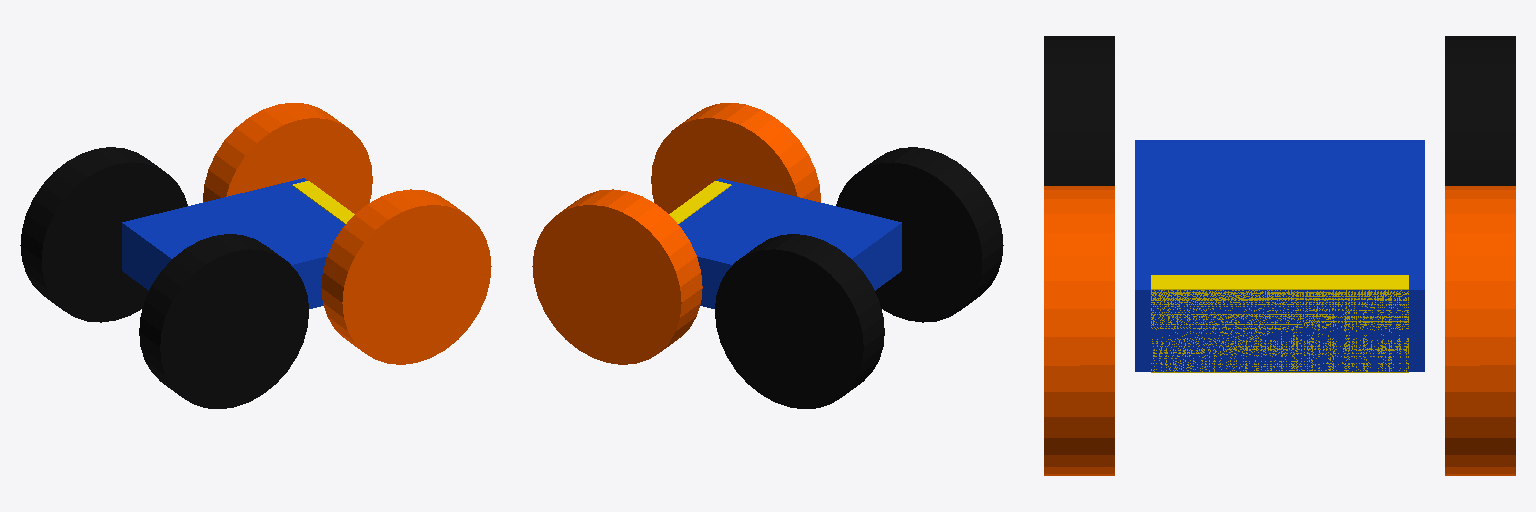
robot.urdf — flipper_car:
<?xml version="1.0"?>
<robot name="flipper_car">

  <!-- Base Link / Chassis -->
  <link name="base_link">
    <inertial>
      <mass value="0.6"/>
      <!-- CoM centered -->
      <origin xyz="0 0 0" rpy="0 0 0"/>
      <inertia ixx="0.0015" ixy="0" ixz="0" iyy="0.0025" iyz="0" izz="0.0025"/>
    </inertial>
    
    <!-- Main Body Box: Trimmed length (0.11m) so 0.045m radius wheels protrude on both ends -->
    <visual>
      <origin xyz="0 0 0" rpy="0 0 0"/>
      <geometry>
        <box size="0.11 0.09 0.028"/>
      </geometry>
      <material name="blue_mat"><color rgba="0.1 0.3 0.8 1.0"/></material>
    </visual>

    <!-- Visual Front Indicator (Yellow) -->
    <visual>
      <origin xyz="0.05 0 0" rpy="0 0 0"/>
      <geometry>
        <box size="0.01 0.08 0.029"/>
      </geometry>
      <material name="bright_yellow"><color rgba="1.0 0.9 0.0 1.0"/></material>
    </visual>

    <collision>
      <origin xyz="0 0 0" rpy="0 0 0"/>
      <geometry>
        <box size="0.11 0.09 0.028"/>
      </geometry>
    </collision>
  </link>

  <!-- 1. Front Left Wheel -->
  <link name="front_left_wheel">
    <inertial>
      <mass value="0.06"/>
      <origin xyz="0 0 0" rpy="1.5708 0 0"/>
      <inertia ixx="0.0001" ixy="0" ixz="0" iyy="0.0001" iyz="0" izz="0.0001"/>
    </inertial>
    <visual>
      <origin xyz="0 0 0" rpy="1.5708 0 0"/>
      <geometry><cylinder radius="0.045" length="0.022"/></geometry>
      <material name="orange_mat"><color rgba="1.0 0.4 0.0 1.0"/></material>
    </visual>
    <collision>
      <origin xyz="0 0 0" rpy="1.5708 0 0"/>
      <geometry><cylinder radius="0.045" length="0.022"/></geometry>
    </collision>
  </link>
  <joint name="front_left_joint" type="continuous">
    <parent link="base_link"/>
    <child link="front_left_wheel"/>
    <origin xyz="0.055 0.062 0" rpy="0 0 0"/>
    <axis xyz="0 1 0"/>
  </joint>

  <!-- 2. Rear Left Wheel -->
  <link name="rear_left_wheel">
    <inertial>
      <mass value="0.06"/>
      <origin xyz="0 0 0" rpy="1.5708 0 0"/>
      <inertia ixx="0.0001" ixy="0" ixz="0" iyy="0.0001" iyz="0" izz="0.0001"/>
    </inertial>
    <visual>
      <origin xyz="0 0 0" rpy="1.5708 0 0"/>
      <geometry><cylinder radius="0.045" length="0.022"/></geometry>
      <material name="black_mat"><color rgba="0.1 0.1 0.1 1.0"/></material>
    </visual>
    <collision>
      <origin xyz="0 0 0" rpy="1.5708 0 0"/>
      <geometry><cylinder radius="0.045" length="0.022"/></geometry>
    </collision>
  </link>
  <joint name="rear_left_joint" type="continuous">
    <parent link="base_link"/>
    <child link="rear_left_wheel"/>
    <origin xyz="-0.055 0.062 0" rpy="0 0 0"/>
    <axis xyz="0 1 0"/>
  </joint>

  <!-- 3. Front Right Wheel -->
  <link name="front_right_wheel">
    <inertial>
      <mass value="0.06"/>
      <origin xyz="0 0 0" rpy="1.5708 0 0"/>
      <inertia ixx="0.0001" ixy="0" ixz="0" iyy="0.0001" iyz="0" izz="0.0001"/>
    </inertial>
    <visual>
      <origin xyz="0 0 0" rpy="1.5708 0 0"/>
      <geometry><cylinder radius="0.045" length="0.022"/></geometry>
      <material name="orange_mat"><color rgba="1.0 0.4 0.0 1.0"/></material>
    </visual>
    <collision>
      <origin xyz="0 0 0" rpy="1.5708 0 0"/>
      <geometry><cylinder radius="0.045" length="0.022"/></geometry>
    </collision>
  </link>
  <joint name="front_right_joint" type="continuous">
    <parent link="base_link"/>
    <child link="front_right_wheel"/>
    <origin xyz="0.055 -0.062 0" rpy="0 0 0"/>
    <axis xyz="0 1 0"/>
  </joint>

  <!-- 4. Rear Right Wheel -->
  <link name="rear_right_wheel">
    <inertial>
      <mass value="0.06"/>
      <origin xyz="0 0 0" rpy="1.5708 0 0"/>
      <inertia ixx="0.0001" ixy="0" ixz="0" iyy="0.0001" iyz="0" izz="0.0001"/>
    </inertial>
    <visual>
      <origin xyz="0 0 0" rpy="1.5708 0 0"/>
      <geometry><cylinder radius="0.045" length="0.022"/></geometry>
      <material name="black_mat"><color rgba="0.1 0.1 0.1 1.0"/></material>
    </visual>
    <collision>
      <origin xyz="0 0 0" rpy="1.5708 0 0"/>
      <geometry><cylinder radius="0.045" length="0.022"/></geometry>
    </collision>
  </link>
  <joint name="rear_right_joint" type="continuous">
    <parent link="base_link"/>
    <child link="rear_right_wheel"/>
    <origin xyz="-0.055 -0.062 0" rpy="0 0 0"/>
    <axis xyz="0 1 0"/>
  </joint>

  <!-- Gazebo Material Colors -->
  <gazebo reference="base_link">
    <material>
      <ambient>0.1 0.3 0.8 1.0</ambient>
      <diffuse>0.1 0.3 0.8 1.0</diffuse>
    </material>
  </gazebo>
  <gazebo reference="front_left_wheel">
    <material><ambient>1.0 0.4 0.0 1.0</ambient><diffuse>1.0 0.4 0.0 1.0</diffuse></material>
  </gazebo>
  <gazebo reference="front_right_wheel">
    <material><ambient>1.0 0.4 0.0 1.0</ambient><diffuse>1.0 0.4 0.0 1.0</diffuse></material>
  </gazebo>
  <gazebo reference="rear_left_wheel">
    <material><ambient>0.1 0.1 0.1 1.0</ambient><diffuse>0.1 0.1 0.1 1.0</diffuse></material>
  </gazebo>
  <gazebo reference="rear_right_wheel">
    <material><ambient>0.1 0.1 0.1 1.0</ambient><diffuse>0.1 0.1 0.1 1.0</diffuse></material>
  </gazebo>

  <!-- High Grip Friction on Rubber Tires -->
  <gazebo reference="front_left_wheel"><mu1>2.0</mu1><mu2>2.0</mu2></gazebo>
  <gazebo reference="rear_left_wheel"><mu1>2.0</mu1><mu2>2.0</mu2></gazebo>
  <gazebo reference="front_right_wheel"><mu1>2.0</mu1><mu2>2.0</mu2></gazebo>
  <gazebo reference="rear_right_wheel"><mu1>2.0</mu1><mu2>2.0</mu2></gazebo>

  <!-- Diff Drive Plugin -->
  <gazebo>
    <plugin filename="gz-sim-diff-drive-system" name="gz::sim::systems::DiffDrive">
      <left_joint>front_left_joint</left_joint>
      <left_joint>rear_left_joint</left_joint>
      <right_joint>front_right_joint</right_joint>
      <right_joint>rear_right_joint</right_joint>
      <wheel_separation>0.124</wheel_separation>
      <wheel_radius>0.045</wheel_radius>
      <topic>/cmd_vel</topic>
      <odom_topic>/odom</odom_topic>
      <tf_topic>/tf</tf_topic>
      <frame_id>odom</frame_id>
      <child_frame_id>base_link</child_frame_id>
      <odom_publish_frequency>50</odom_publish_frequency>
    </plugin>

    <plugin filename="gz-sim-joint-state-publisher-system" name="gz::sim::systems::JointStatePublisher">
      <topic>/joint_states</topic>
      <joint_name>front_left_joint</joint_name>
      <joint_name>rear_left_joint</joint_name>
      <joint_name>front_right_joint</joint_name>
      <joint_name>rear_right_joint</joint_name>
    </plugin>
  </gazebo>

  <!-- IMU Sensor: Pitch reading for balancing -->
  <gazebo reference="base_link">
    <sensor name="imu_sensor" type="imu">
      <always_on>1</always_on>
      <update_rate>50</update_rate>
      <visualize>true</visualize>
      <topic>/imu</topic>
    </sensor>
  </gazebo>

</robot>

--- What the picture shows (computed from the rendered views, not written in the file) ---
The picture shows the robot from 3 angles, left to right: view 1: azimuth 30°, elevation 25°; view 2: azimuth 150°, elevation 25°; view 3: azimuth 270°, elevation 25°; orthographic projection.
Model flipper_car with 5 links and 4 joints (4 continuous), rooted at base_link, posed all joints at 0.
Visible links, largest first — view 1: rear_right_wheel, front_right_wheel, rear_left_wheel, base_link, front_left_wheel; view 2: rear_left_wheel, front_left_wheel, rear_right_wheel, base_link, front_right_wheel; view 3: base_link, front_left_wheel, front_right_wheel, rear_left_wheel, rear_right_wheel.
Boxes of the visible links, <box> form: rear_right_wheel: <box>139,234,308,408</box>; front_right_wheel: <box>321,189,491,364</box>; rear_left_wheel: <box>20,147,187,322</box>; base_link: <box>122,178,354,308</box>; front_left_wheel: <box>203,103,372,213</box>; rear_left_wheel: <box>715,234,884,408</box>; front_left_wheel: <box>532,189,702,364</box>; rear_right_wheel: <box>836,147,1003,322</box>; base_link: <box>669,178,901,308</box>; front_right_wheel: <box>651,103,820,213</box>; base_link: <box>1135,140,1424,372</box>; front_left_wheel: <box>1445,186,1515,475</box>; front_right_wheel: <box>1044,186,1114,475</box>; rear_left_wheel: <box>1445,36,1515,185</box>; rear_right_wheel: <box>1044,36,1114,185</box>.
Size in the robot's own frame: 0.2 by 0.146 by 0.09 metres.
Geometry: primitives only (box / cylinder / sphere), no mesh files.
